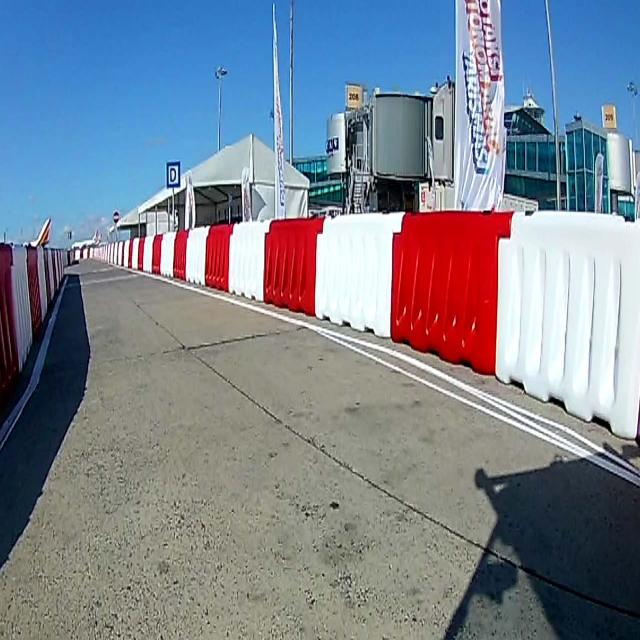durak: (166, 160, 180, 188)
girisyok: (112, 211, 120, 225)
